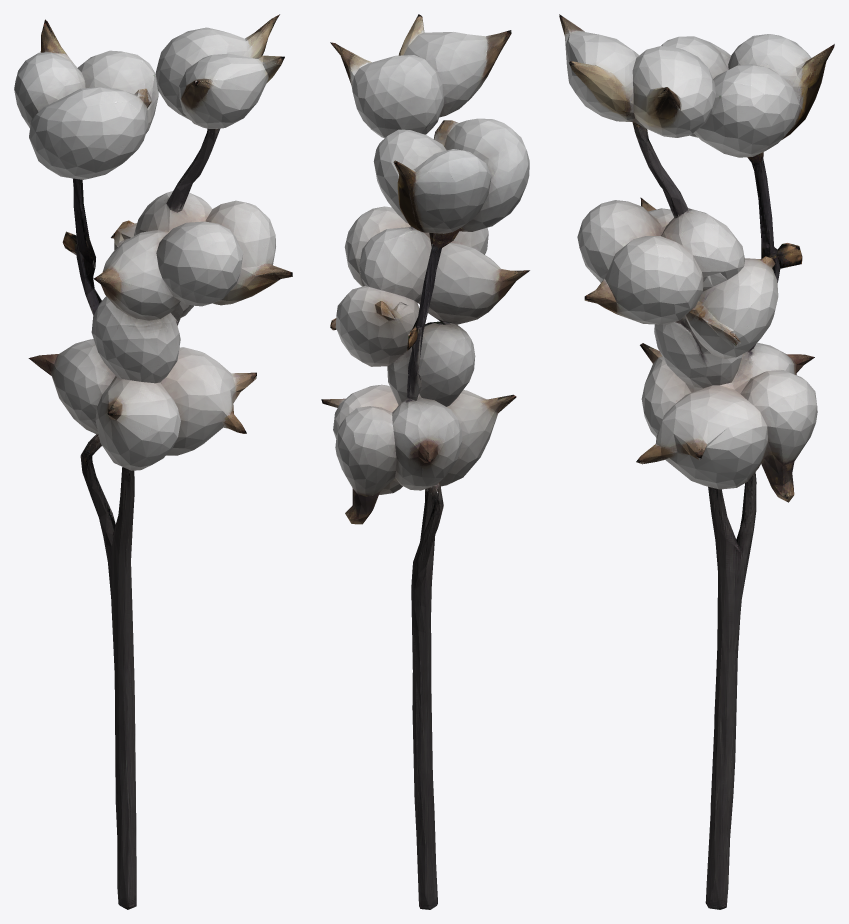
The picture shows the model from 3 angles, left to right: view 1: azimuth 30°, elevation 25°; view 2: azimuth 150°, elevation 25°; view 3: azimuth 270°, elevation 25°; orthographic projection. The views are drawn at different scales.
Parts seen in each view (by area): view 1: world; view 2: world; view 3: world.
Part boxes in pixels (bbox=[...]): world: bbox=[14, 14, 292, 909]; world: bbox=[321, 14, 529, 909]; world: bbox=[559, 14, 834, 909].
Bounding box in the file's own units: 0.2676 × 1 × 0.2819.
1 material, 1 textured.
